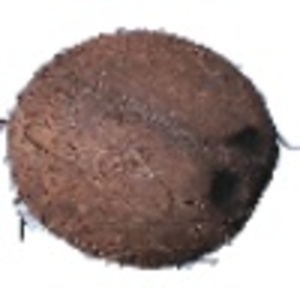coco: (1, 29, 300, 270)
